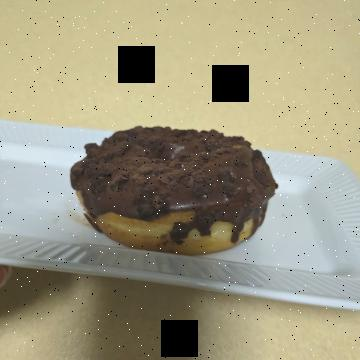doughnut: (100, 75, 268, 310)
